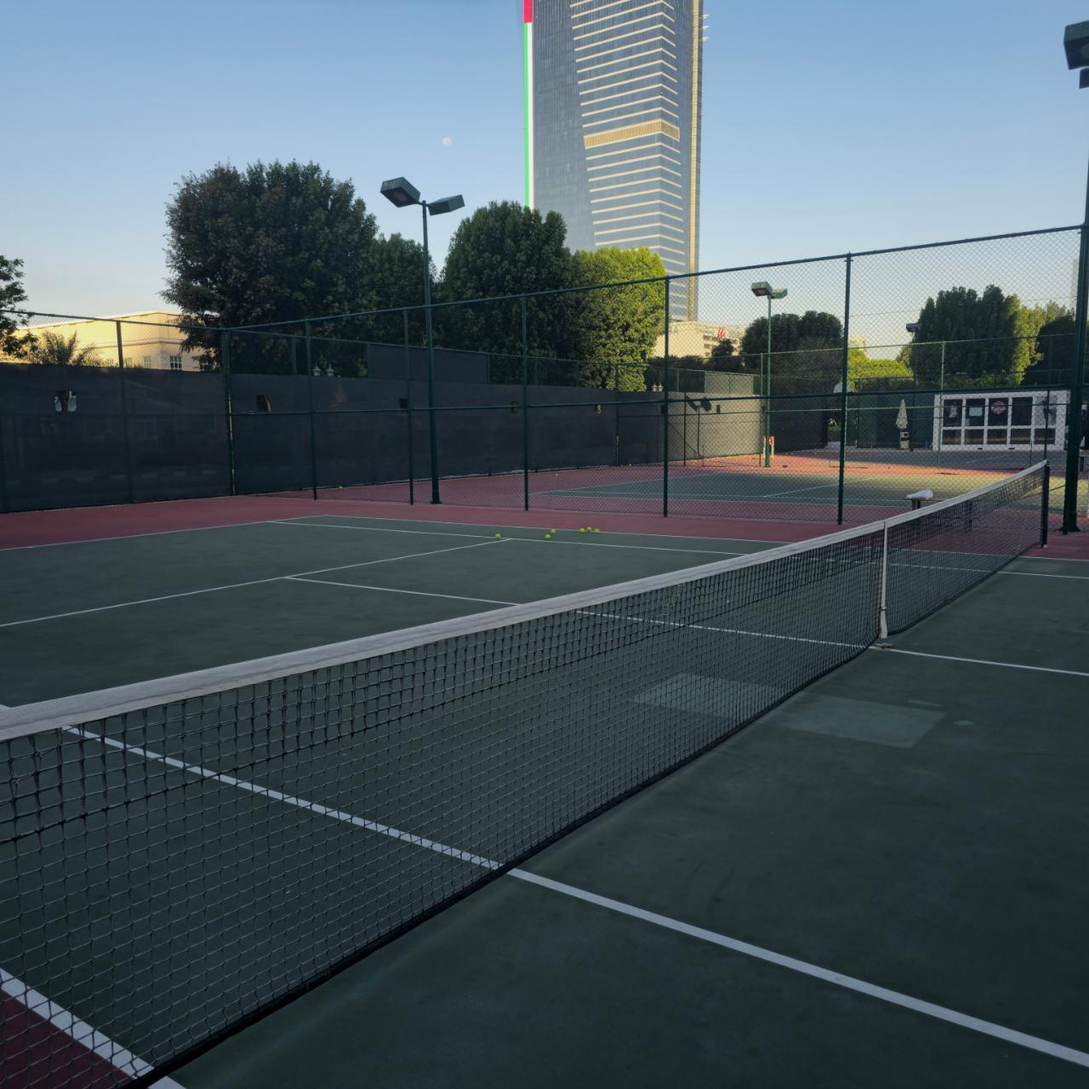tennis-ball: (545, 534, 551, 540), (594, 528, 600, 534), (587, 526, 592, 532), (495, 534, 501, 539), (579, 528, 584, 533), (551, 529, 556, 534)
